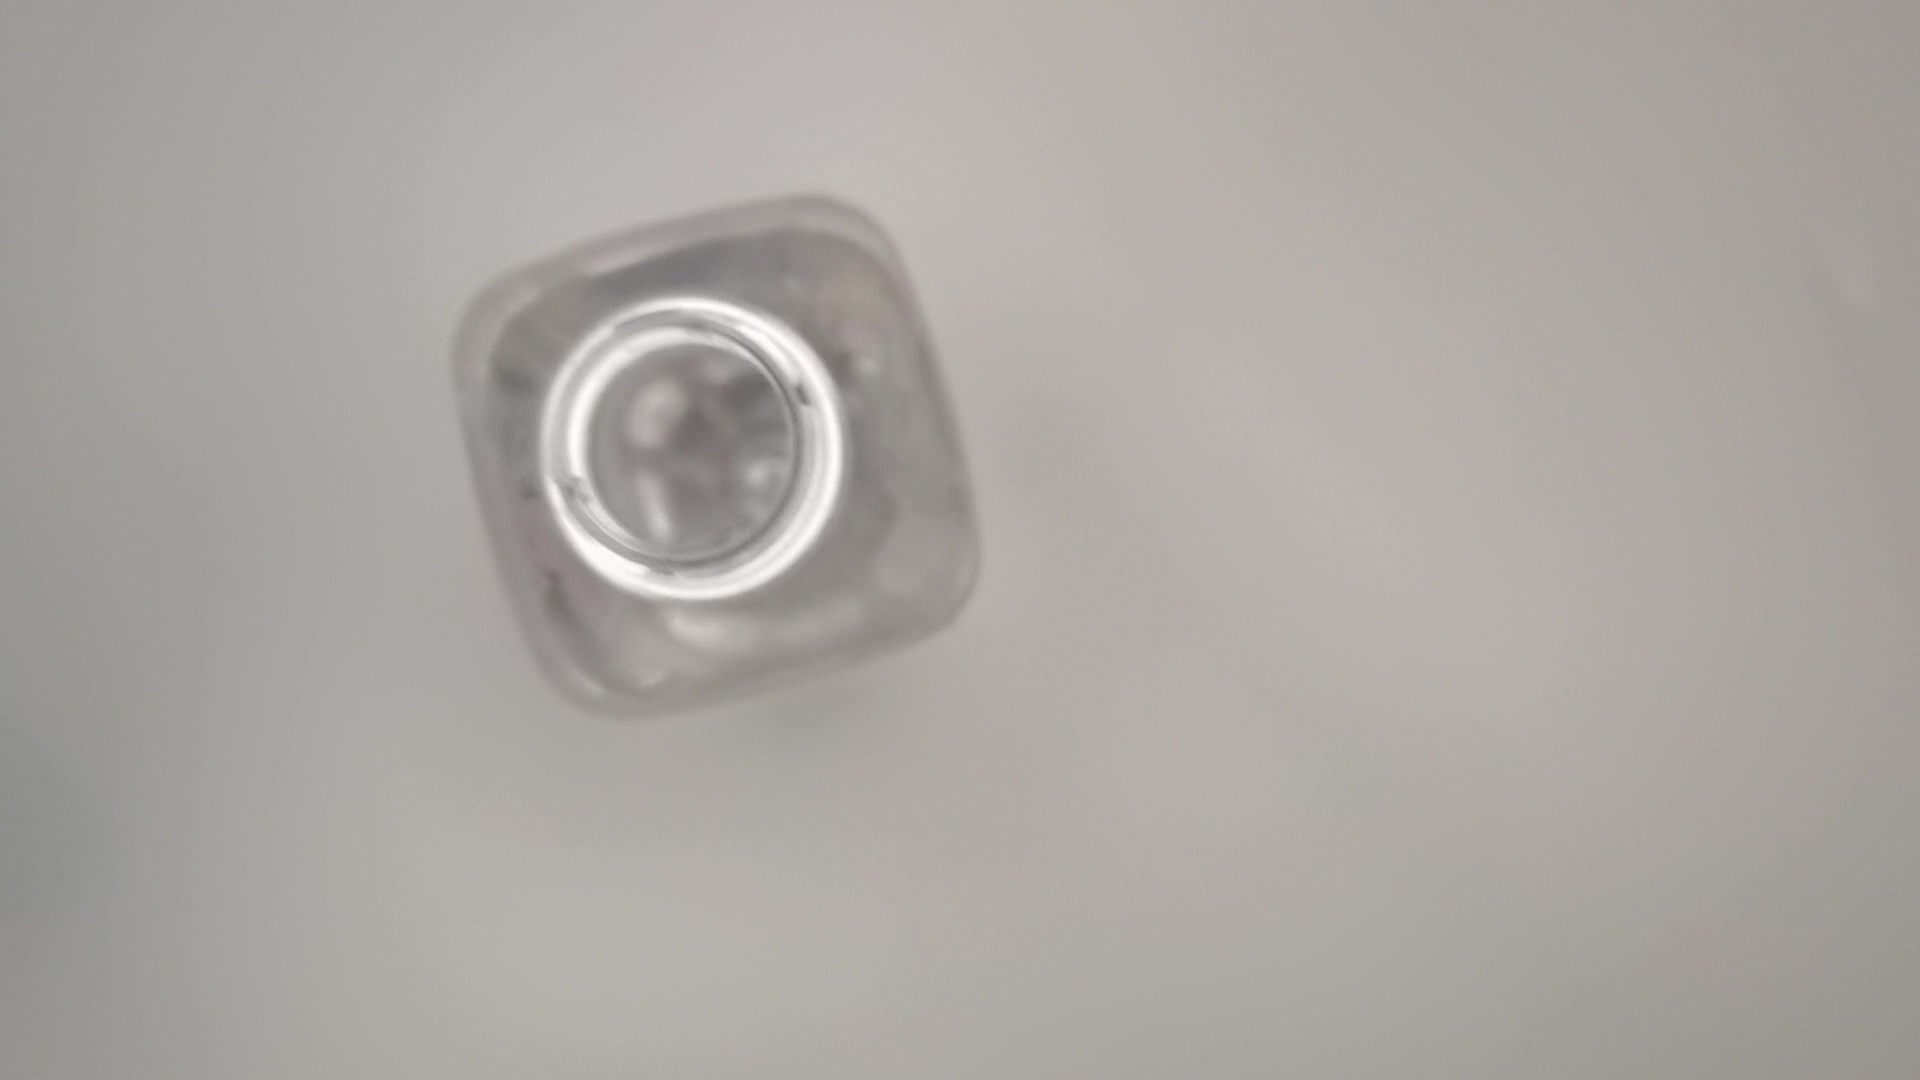bottle: (433, 183, 992, 728)
